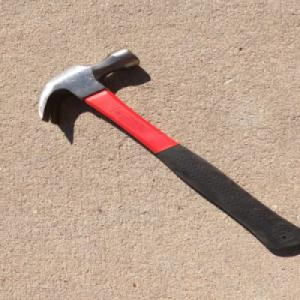Hammer: (34, 47, 300, 251)
